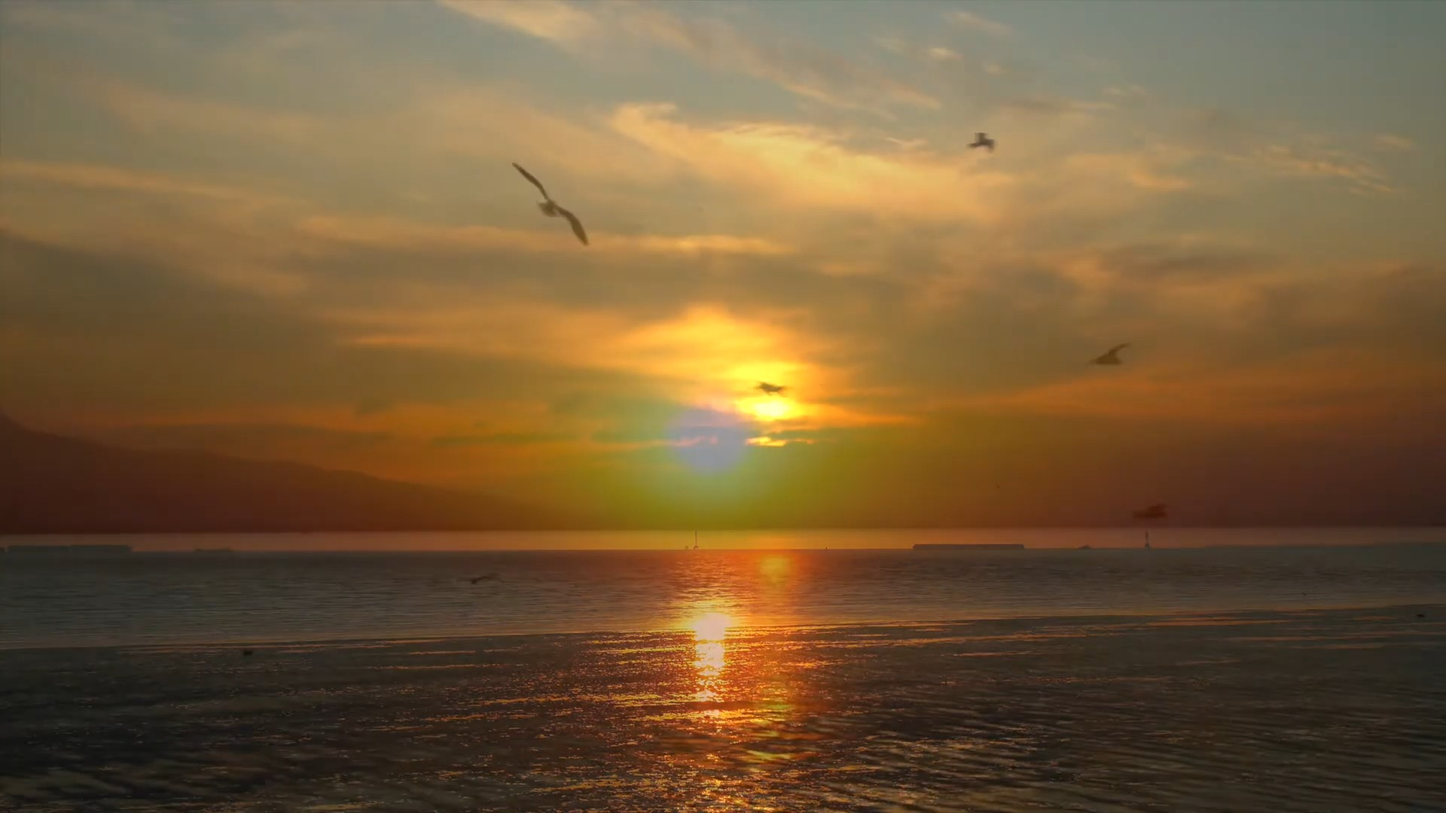not_drone: (507, 151, 597, 247), (1092, 339, 1141, 373), (959, 126, 1012, 156), (1121, 503, 1170, 523)
